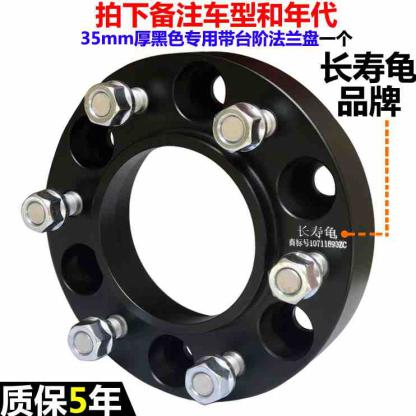FOD: (38, 48, 378, 412)
